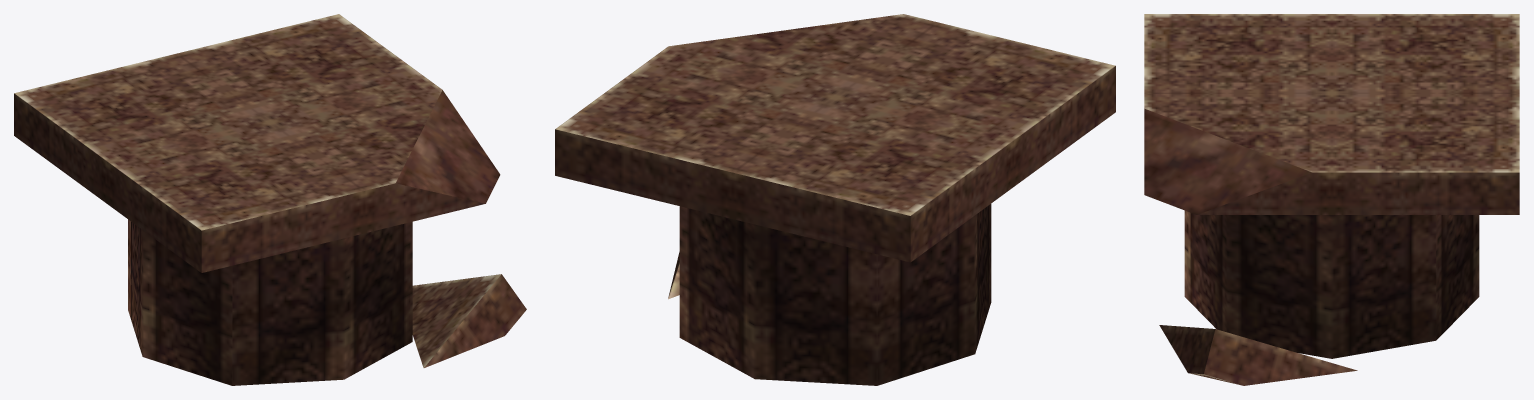
The model's file is general_obj_bigtower12.fbx.
3 renders of one model, left to right at view 1: azimuth 30°, elevation 25°; view 2: azimuth 150°, elevation 25°; view 3: azimuth 270°, elevation 25°, orthographic. The views are drawn at different scales.
Parts seen in each view (by area): view 1: Sphere01; view 2: Sphere01; view 3: Sphere01.
Boxes of the visible parts, x1,y1,x2,y2 form: Sphere01: (14, 14, 526, 385); Sphere01: (555, 14, 1115, 385); Sphere01: (1144, 14, 1519, 385).
Size of the model in its own units: 4.37 by 2.46 by 4.
